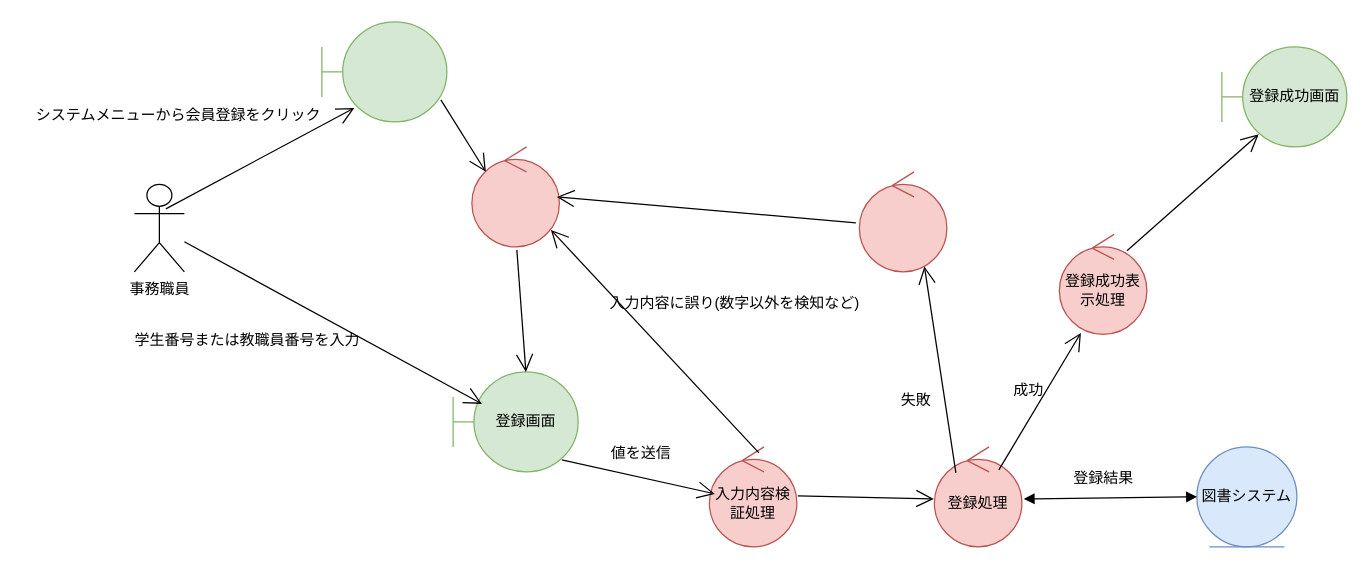
This 1369x569 diagram has some shape labels left out. The shapes that lost their labels are listed below. From the top down, each one's centre as x and y in pixels, then its label:
(x=384, y=71): システムメニュー画面
(x=515, y=196): 登録画面表示
(x=902, y=221): 登録失敗表示処理
